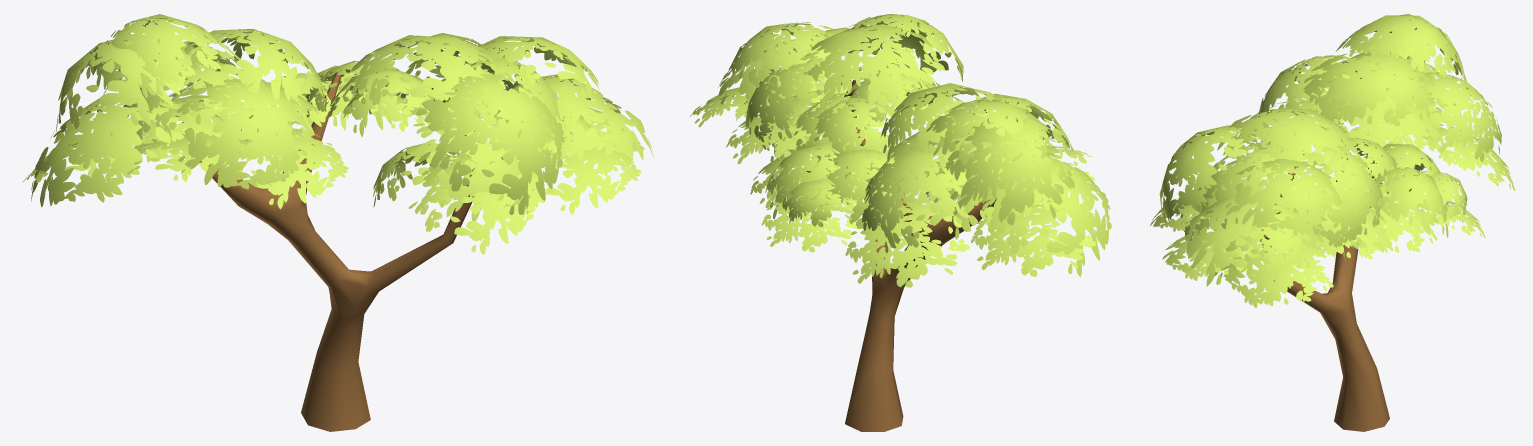
Rendered from TreeLeaf.fbx.
3 views of the same model, side by side, from view 1: azimuth 30°, elevation 25°; view 2: azimuth 150°, elevation 25°; view 3: azimuth 270°, elevation 25° (orthographic). The views are drawn at different scales.
Parts seen in each view (by area): view 1: Icosphere.022, Cube.013; view 2: Icosphere.022, Cube.013; view 3: Icosphere.022, Cube.013.
Boxes of the visible parts, x1,y1,x2,y2 form: Icosphere.022: (22, 14, 653, 254); Cube.013: (199, 71, 503, 431); Icosphere.022: (690, 14, 1111, 287); Cube.013: (806, 80, 996, 431); Icosphere.022: (1150, 14, 1514, 308); Cube.013: (1260, 118, 1411, 431).
Bounding box in the file's own units: 10.36 × 7.53 × 7.51.
